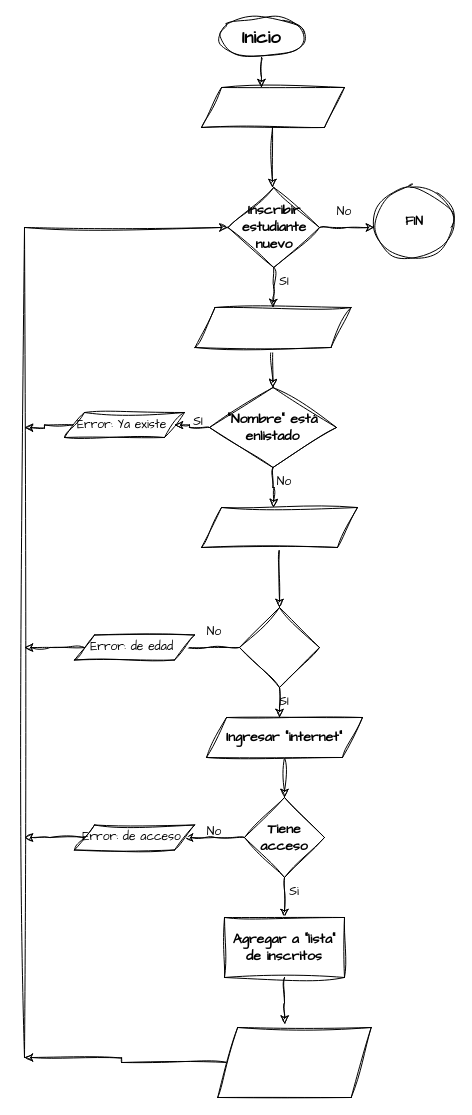
This 472x1115 diagram has some shape labels left out. The shapes that lost their labels are listed below. From the top down, each one's box as (x1, y1, x2, y2) in pixels, then its label:
(200, 86, 344, 128): Se crea "lista" vacía
(194, 306, 351, 348): Ingresar "Nombre"
(200, 506, 358, 548): Ingresar "Edad"
(238, 606, 320, 688): Edad > 15
(217, 1026, 371, 1098): Imprimir Mensaje de confirmación
